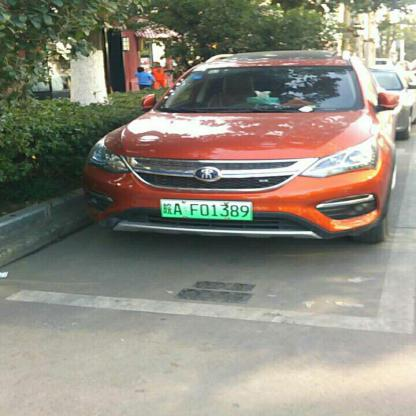lp: (159, 200, 252, 221)
